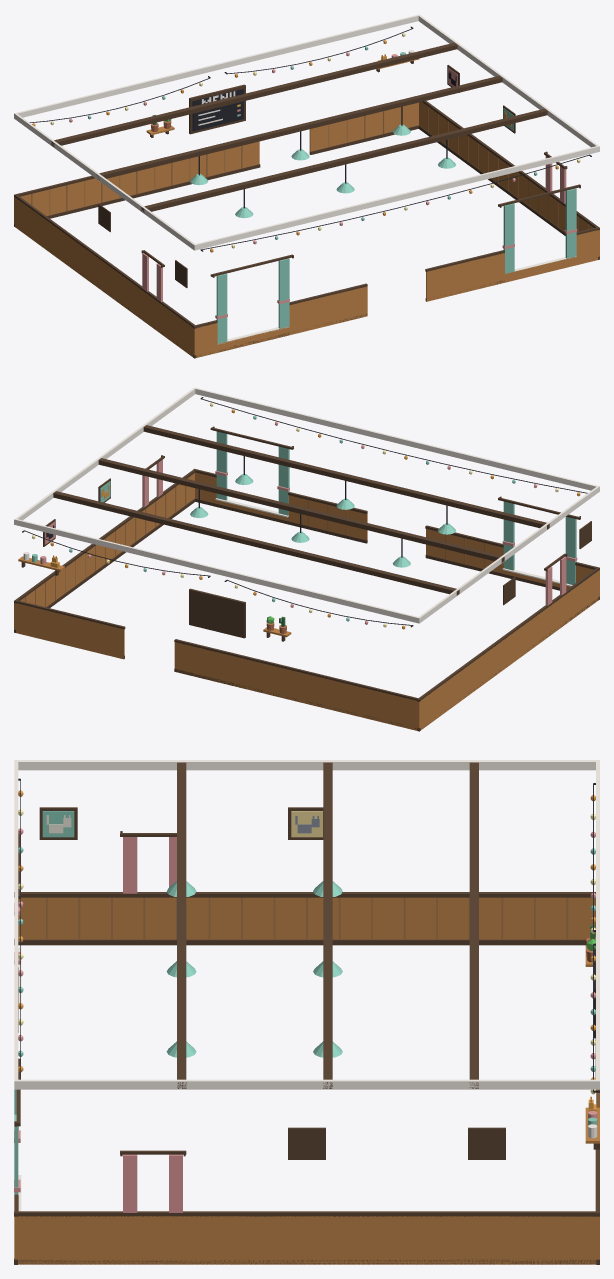
The model's file is CatCafe_Plot_Interior_48x37.glb.
3 renders of one model, top to bottom at view 1: azimuth 30°, elevation 25°; view 2: azimuth 150°, elevation 25°; view 3: azimuth 270°, elevation 25°, orthographic. The views are drawn at different scales.
Visible parts, largest first — view 1: CatCafe_Plot_Interior_48x37, CatCafe_Plot_Interior_48x37_StringLights_Bulbs; view 2: CatCafe_Plot_Interior_48x37, CatCafe_Plot_Interior_48x37_StringLights_Bulbs; view 3: CatCafe_Plot_Interior_48x37, CatCafe_Plot_Interior_48x37_StringLights_Bulbs.
Part boxes in pixels (left/top/right/bottom): CatCafe_Plot_Interior_48x37: left=14, top=14, right=599, bottom=358; CatCafe_Plot_Interior_48x37_StringLights_Bulbs: left=32, top=33, right=580, bottom=252; CatCafe_Plot_Interior_48x37: left=14, top=387, right=599, bottom=731; CatCafe_Plot_Interior_48x37_StringLights_Bulbs: left=32, top=402, right=580, bottom=629; CatCafe_Plot_Interior_48x37: left=14, top=760, right=599, bottom=1264; CatCafe_Plot_Interior_48x37_StringLights_Bulbs: left=18, top=790, right=596, bottom=1094.
Size of the model in its own units: 48.02 by 12.8 by 37.03.
1 material, 1 textured.
